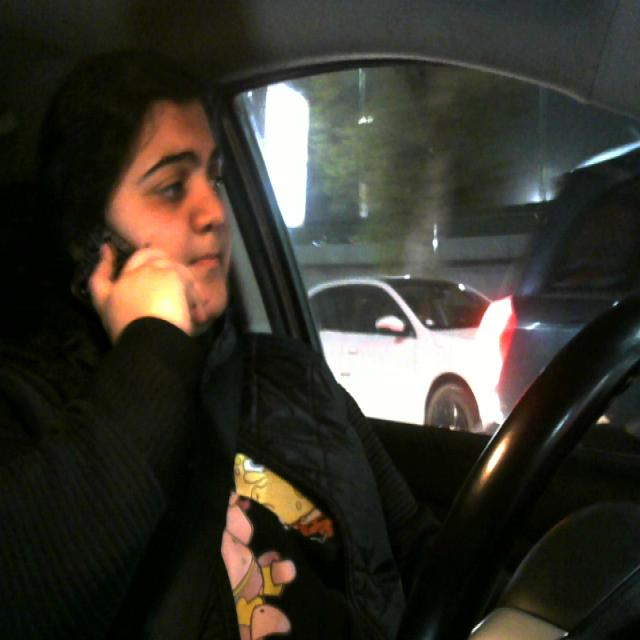mobile use: (75, 214, 193, 344)
